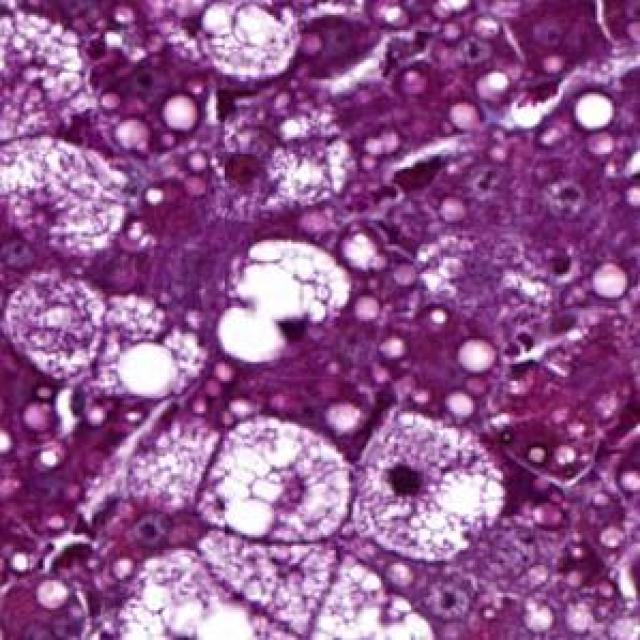ballooning: (344, 407, 510, 567), (188, 413, 358, 548), (216, 236, 353, 370), (188, 2, 308, 88)
